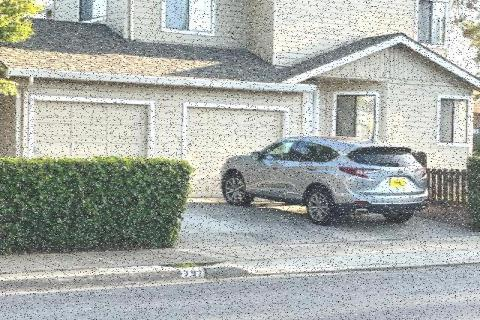LicensePlate: (389, 177, 404, 186)
